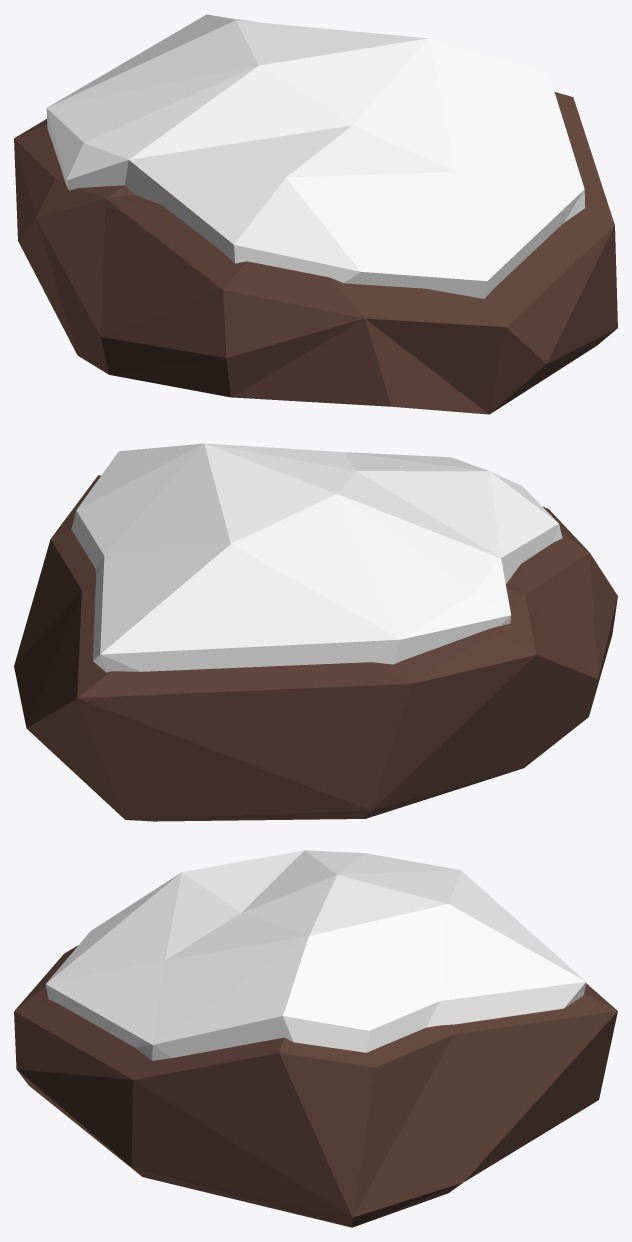
The model's file is snow_rock_004.fbx.
3 renders of one model, top to bottom at view 1: azimuth 30°, elevation 25°; view 2: azimuth 150°, elevation 25°; view 3: azimuth 270°, elevation 25°, orthographic. The views are drawn at different scales.
Parts seen in each view (by area): view 1: snow_rock_004; view 2: snow_rock_004; view 3: snow_rock_004.
Boxes of the visible parts, left/top/right/bottom form: snow_rock_004: left=14, top=14, right=617, bottom=414; snow_rock_004: left=14, top=443, right=617, bottom=821; snow_rock_004: left=14, top=850, right=617, bottom=1227.
Bounding box in the file's own units: 433 × 501 × 209.
